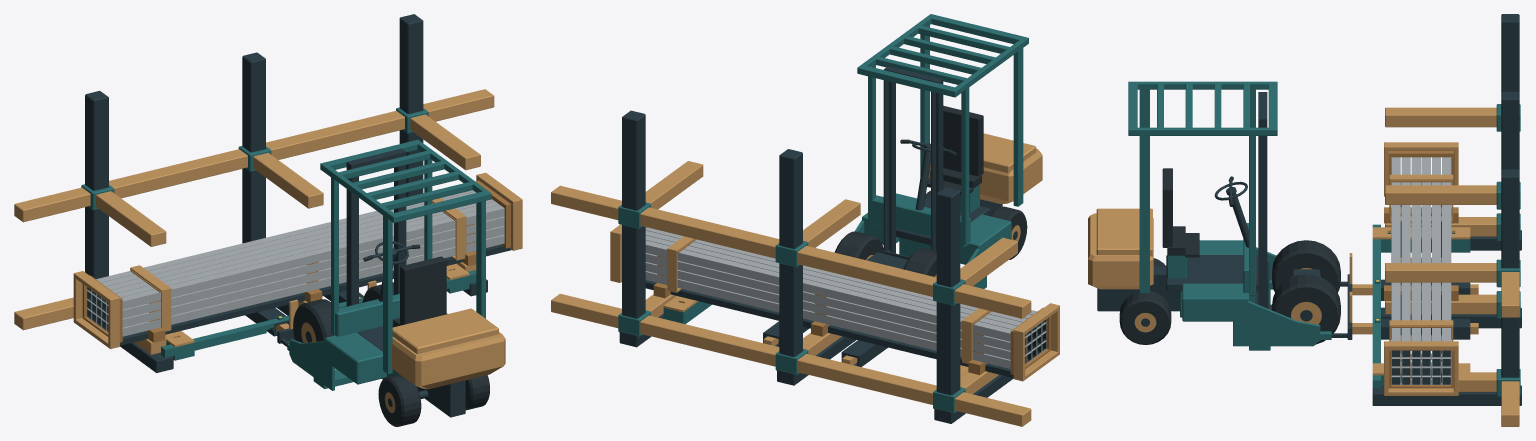
The model's file is long-rack-release-fixture.glb.
3 views of the same model, side by side, from view 1: azimuth 30°, elevation 25°; view 2: azimuth 150°, elevation 25°; view 3: azimuth 270°, elevation 25° (orthographic).
Parts seen in each view (by area): view 1: long-rack-release-fixture__batch_25, long-rack-release-fixture__batch_01, long-rack-release-fixture__batch_33, long-rack-release-fixture__batch_35, long-rack-release-fixture__batch_02, long-rack-release-fixture__batch_00, long-rack-release-fixture__batch_26, long-rack-release-fixture__batch_23, long-rack-release-fixture__batch_27, long-rack-release-fixture__batch_30, long-rack-release-fixture__batch_24, long-rack-release-fixture__batch_14 (+5 smaller); view 2: long-rack-release-fixture__batch_33, long-rack-release-fixture__batch_25, long-rack-release-fixture__batch_01, long-rack-release-fixture__batch_35, long-rack-release-fixture__batch_00, long-rack-release-fixture__batch_26, long-rack-release-fixture__batch_02, long-rack-release-fixture__batch_34, long-rack-release-fixture__batch_23, long-rack-release-fixture__batch_27, long-rack-release-fixture__batch_24, long-rack-release-fixture__batch_19 (+4 smaller); view 3: long-rack-release-fixture__batch_01, long-rack-release-fixture__batch_33, long-rack-release-fixture__batch_25, long-rack-release-fixture__batch_35, long-rack-release-fixture__batch_00, long-rack-release-fixture__batch_02, long-rack-release-fixture__batch_26, long-rack-release-fixture__batch_24, long-rack-release-fixture__batch_19, long-rack-release-fixture__batch_22, long-rack-release-fixture__batch_11, long-rack-release-fixture__batch_30 (+7 smaller).
Part boxes in pixels (x1,y1,x2,y2): long-rack-release-fixture__batch_25: (87,190,504,336); long-rack-release-fixture__batch_01: (289,139,491,390); long-rack-release-fixture__batch_33: (14,89,494,354); long-rack-release-fixture__batch_35: (85,14,487,372); long-rack-release-fixture__batch_02: (392,308,505,389); long-rack-release-fixture__batch_00: (346,148,465,417); long-rack-release-fixture__batch_26: (73,172,522,348); long-rack-release-fixture__batch_23: (392,256,446,327); long-rack-release-fixture__batch_27: (120,244,511,345); long-rack-release-fixture__batch_30: (161,270,476,360); long-rack-release-fixture__batch_24: (82,180,510,342); long-rack-release-fixture__batch_14: (378,374,421,426); long-rack-release-fixture__batch_33: (551,161,1031,426); long-rack-release-fixture__batch_25: (645,227,1046,368); long-rack-release-fixture__batch_01: (854,14,1028,288); long-rack-release-fixture__batch_35: (619,110,1013,423); long-rack-release-fixture__batch_00: (867,66,1002,269); long-rack-release-fixture__batch_26: (610,224,1059,381); long-rack-release-fixture__batch_02: (928,133,1042,204); long-rack-release-fixture__batch_34: (618,202,965,413); long-rack-release-fixture__batch_23: (927,105,983,194); long-rack-release-fixture__batch_27: (645,280,1013,377); long-rack-release-fixture__batch_24: (645,227,1050,374); long-rack-release-fixture__batch_19: (834,231,884,259); long-rack-release-fixture__batch_01: (1128,81,1320,350); long-rack-release-fixture__batch_33: (1385,107,1519,426); long-rack-release-fixture__batch_25: (1391,157,1451,384); long-rack-release-fixture__batch_35: (1372,14,1521,405); long-rack-release-fixture__batch_00: (1097,92,1320,311); long-rack-release-fixture__batch_02: (1088,208,1153,289); long-rack-release-fixture__batch_26: (1384,142,1458,395); long-rack-release-fixture__batch_24: (1384,151,1458,388); long-rack-release-fixture__batch_19: (1272,274,1340,344); long-rack-release-fixture__batch_22: (1272,240,1340,292); long-rack-release-fixture__batch_11: (1119,291,1171,344); long-rack-release-fixture__batch_30: (1372,224,1470,388).
Size of the model in its own units: 4.8 by 2.2 by 3.78.
